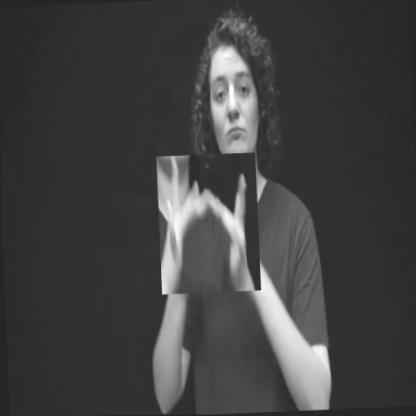Internet: (156, 153, 261, 295)
